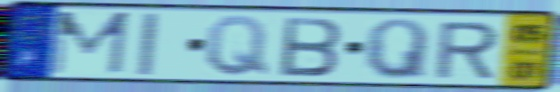B: (278, 15, 345, 79)
I: (135, 11, 161, 78)
M: (47, 10, 133, 77)
Q: (363, 16, 431, 81), (204, 13, 271, 78)
R: (432, 20, 501, 80)
